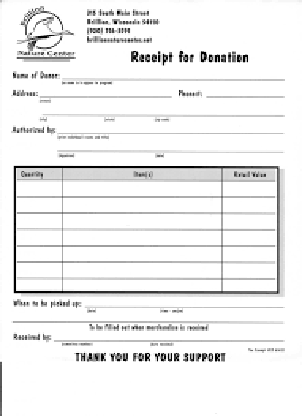textbox: (57, 225, 226, 250), (57, 258, 226, 282), (59, 242, 226, 266), (60, 193, 226, 217), (60, 177, 225, 201), (59, 210, 226, 233), (59, 275, 226, 297), (218, 256, 285, 282), (218, 207, 283, 233), (218, 191, 282, 217), (218, 226, 283, 250), (218, 242, 283, 266), (218, 176, 280, 201), (218, 275, 282, 296), (13, 258, 65, 282), (13, 225, 66, 248), (14, 210, 65, 233), (13, 177, 65, 199), (13, 242, 65, 264), (13, 195, 66, 215), (11, 275, 65, 294)
textline: (38, 103, 286, 117), (9, 312, 285, 324), (52, 329, 285, 343), (57, 123, 286, 136), (60, 68, 286, 81), (54, 141, 286, 153), (82, 299, 283, 310), (38, 87, 172, 100), (204, 85, 286, 100)
